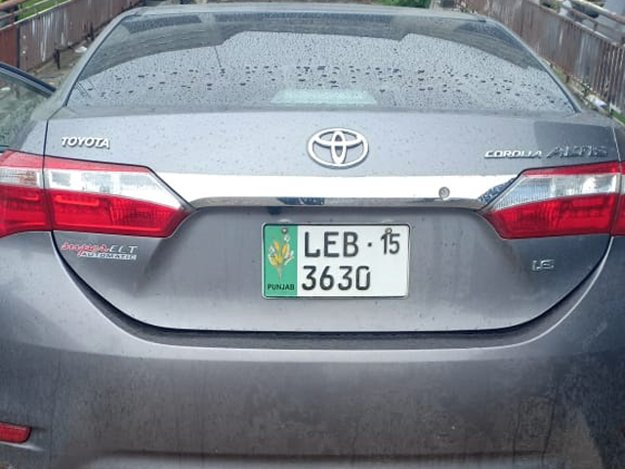plate: (259, 219, 412, 303)
